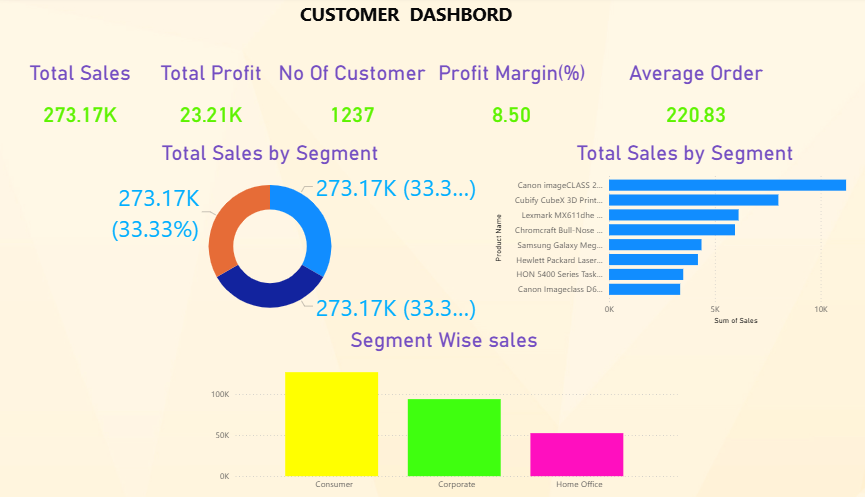

The dashboard page shown, as its layout file describes it:
{"tool":"powerbi","page":{"name":"Duplicate of Page 1","canvas":[1280,720],"ordinal":1},"visuals":[{"type":"card","title":"Total Sales","fields":{"Values":["fact entity dimenshanl.Total sales"]},"box":[0,92.2,230.4,115.2],"z":0},{"type":"card","title":"Profit Margin(%)","fields":{"Values":["fact entity dimenshanl.profit margin (%)"]},"box":[622.1,92.2,229,115.2],"z":1000},{"type":"card","title":"No Of Customer ","fields":{"Values":["fact entity dimenshanl.Total order"]},"box":[391.7,92.2,230.4,115.2],"z":2000},{"type":"card","title":"Total Profit","fields":{"Values":["fact entity dimenshanl.total profit"]},"box":[188.6,92.2,230.4,115.2],"z":3000},{"type":"card","title":"Average Order","fields":{"Values":["fact entity dimenshanl.Average order value"]},"box":[887,92.2,230.4,115.2],"z":4000},{"type":"donutChart","title":"Total Sales by Segment","fields":{"Category":["Sample - Superstore (1).Segment"],"Y":["Sum(fact entity dimenshanl.Sales)"]},"box":[70.6,207.4,636.5,269.3],"z":5000},{"type":"columnChart","title":"Segment Wise sales","fields":{"Category":["custoner dimenshan.Segment"],"Y":["fact entity dimenshanl.Total sales"]},"box":[298.1,476.6,682.6,243.4],"z":6000},{"type":"textbox","box":[352.8,0,463.7,57.6],"z":7000},{"type":"barChart","title":"Total Sales by Segment","fields":{"Category":["product dimenshan.Product Name"],"Y":["Sum(fact entity dimenshanl.Sales)"]},"box":[707,207.4,558.7,269.3],"z":7001}]}

Visuals, with their boxes in screenshot pixels (x1, y1, x2, y2), scaled from the page's 1280x720 canvas onto the 865x497 screenshot:
"Total Sales" card: <region>0, 64, 156, 143</region>
"Profit Margin(%)" card: <region>420, 64, 575, 143</region>
"No Of Customer " card: <region>265, 64, 420, 143</region>
"Total Profit" card: <region>127, 64, 283, 143</region>
"Average Order" card: <region>599, 64, 755, 143</region>
"Total Sales by Segment" donutChart: <region>48, 143, 478, 329</region>
"Segment Wise sales" columnChart: <region>201, 329, 663, 496</region>
textbox: <region>238, 0, 552, 40</region>
"Total Sales by Segment" barChart: <region>478, 143, 855, 329</region>
